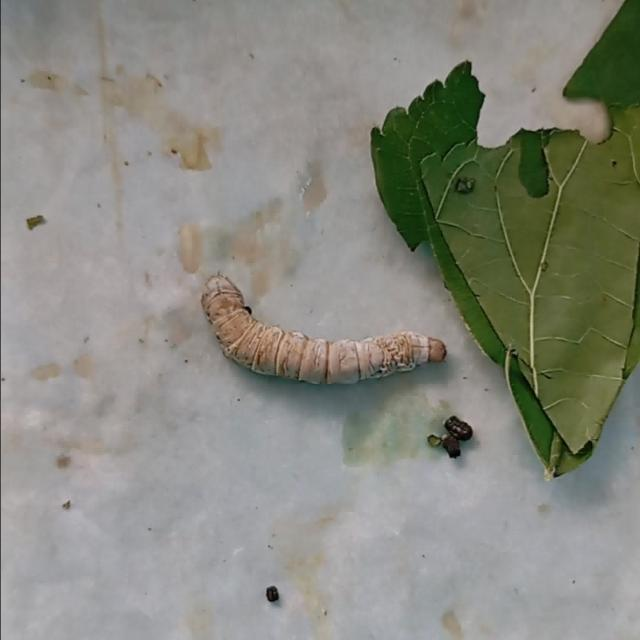Grasserie: (188, 264, 455, 403)
